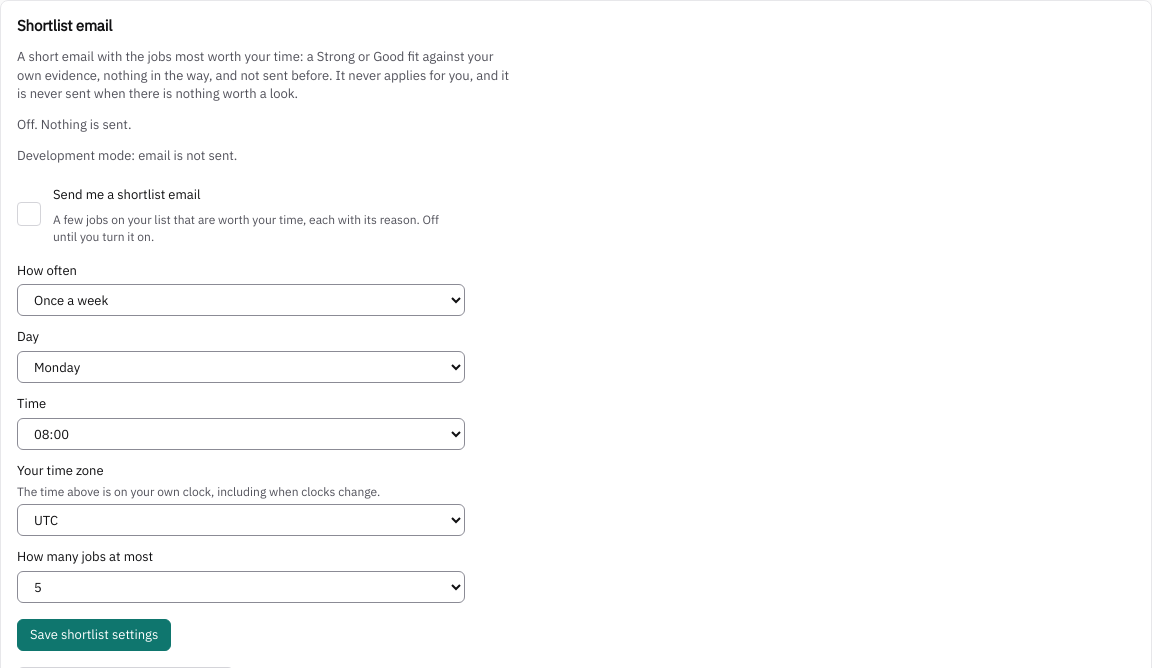
Test: ShortlistSection › sends the chosen schedule, and a daily email has no day to choose
Click the checkbox labelled "Send me a shortlist email".
click(29, 214)  # box [17,202,41,226]
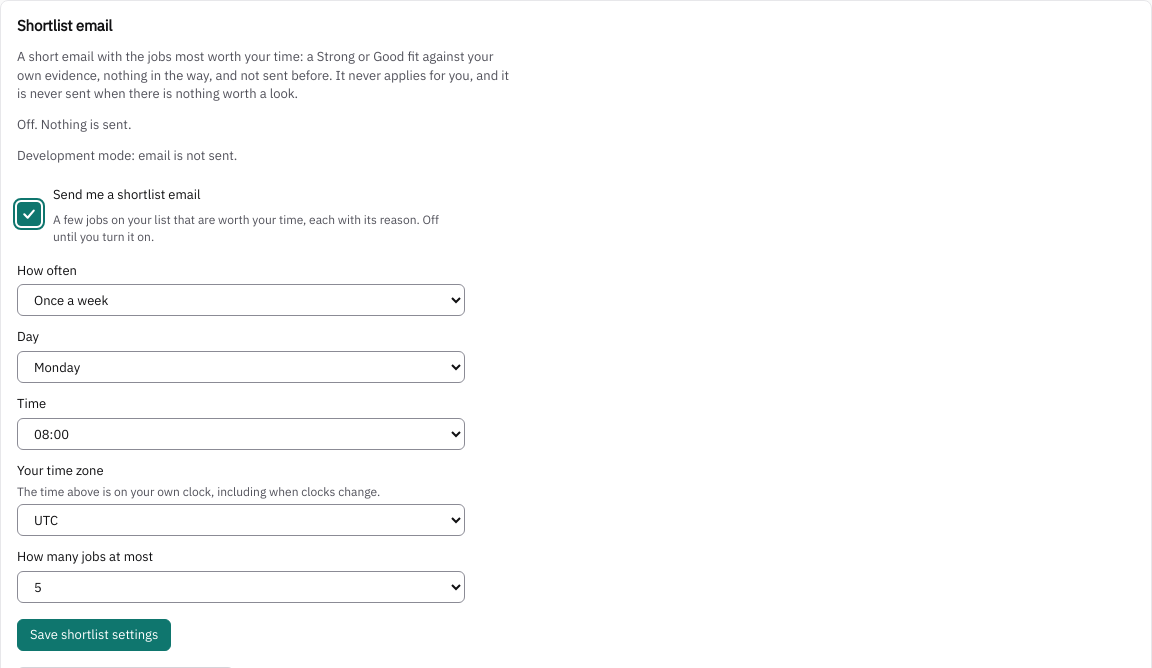
Select "Every day" in the dropdown labelled "How often" at [241, 300], box [17,284,465,316]
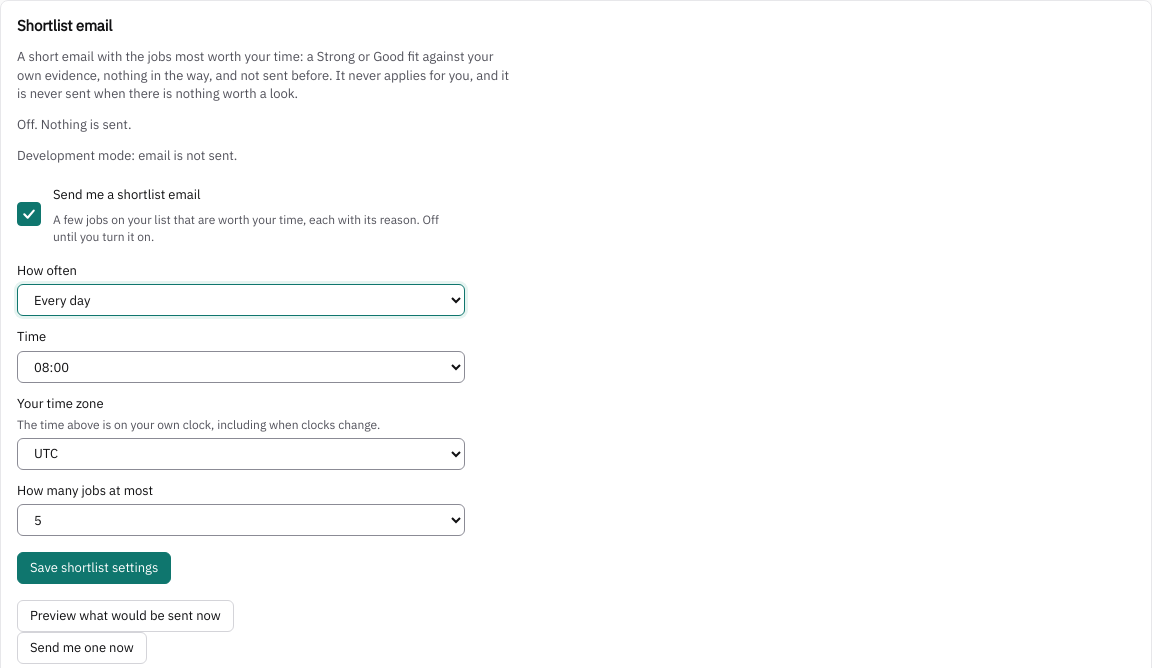
Select "18:00" in the dropdown labelled "Time" at [241, 367], box [17,351,465,383]
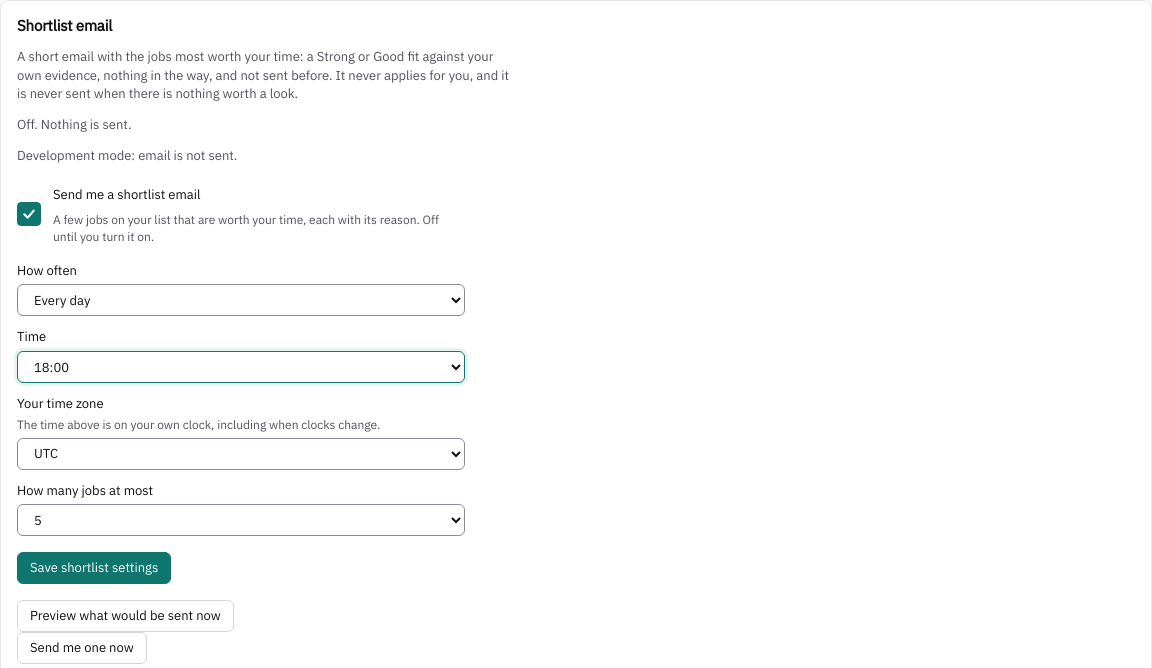
Click the button "Save shortlist settings".
click(94, 568)  # box [17,552,171,584]
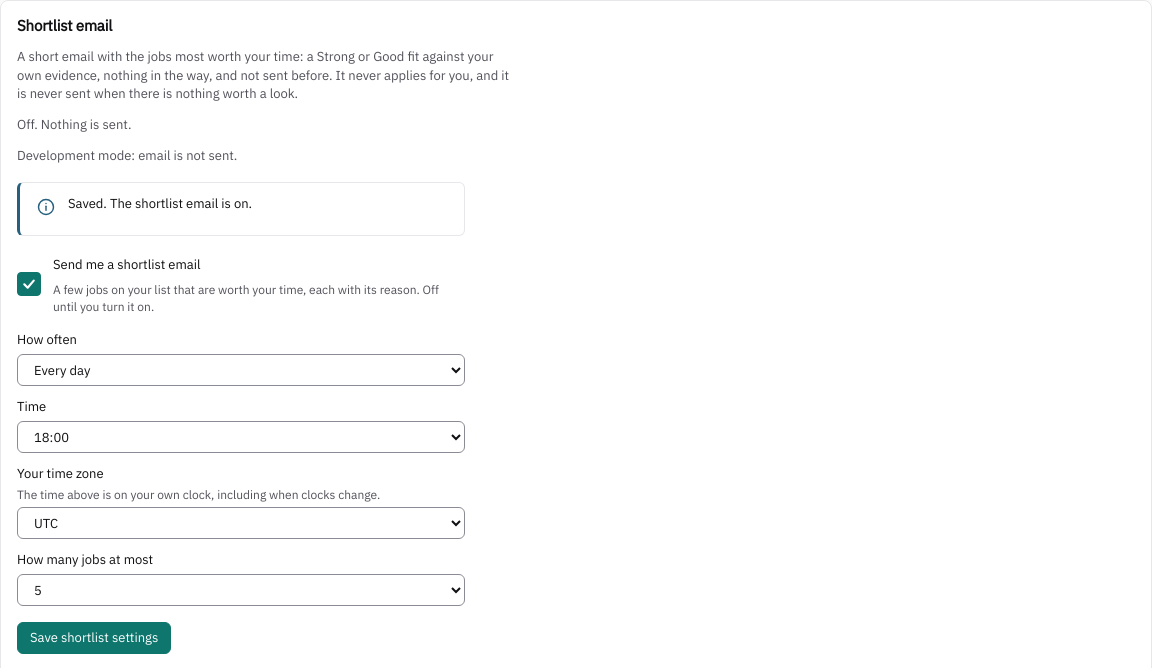
Check: the text "Saved. The shortlist email is on." is shown, box [68,195,252,212]
